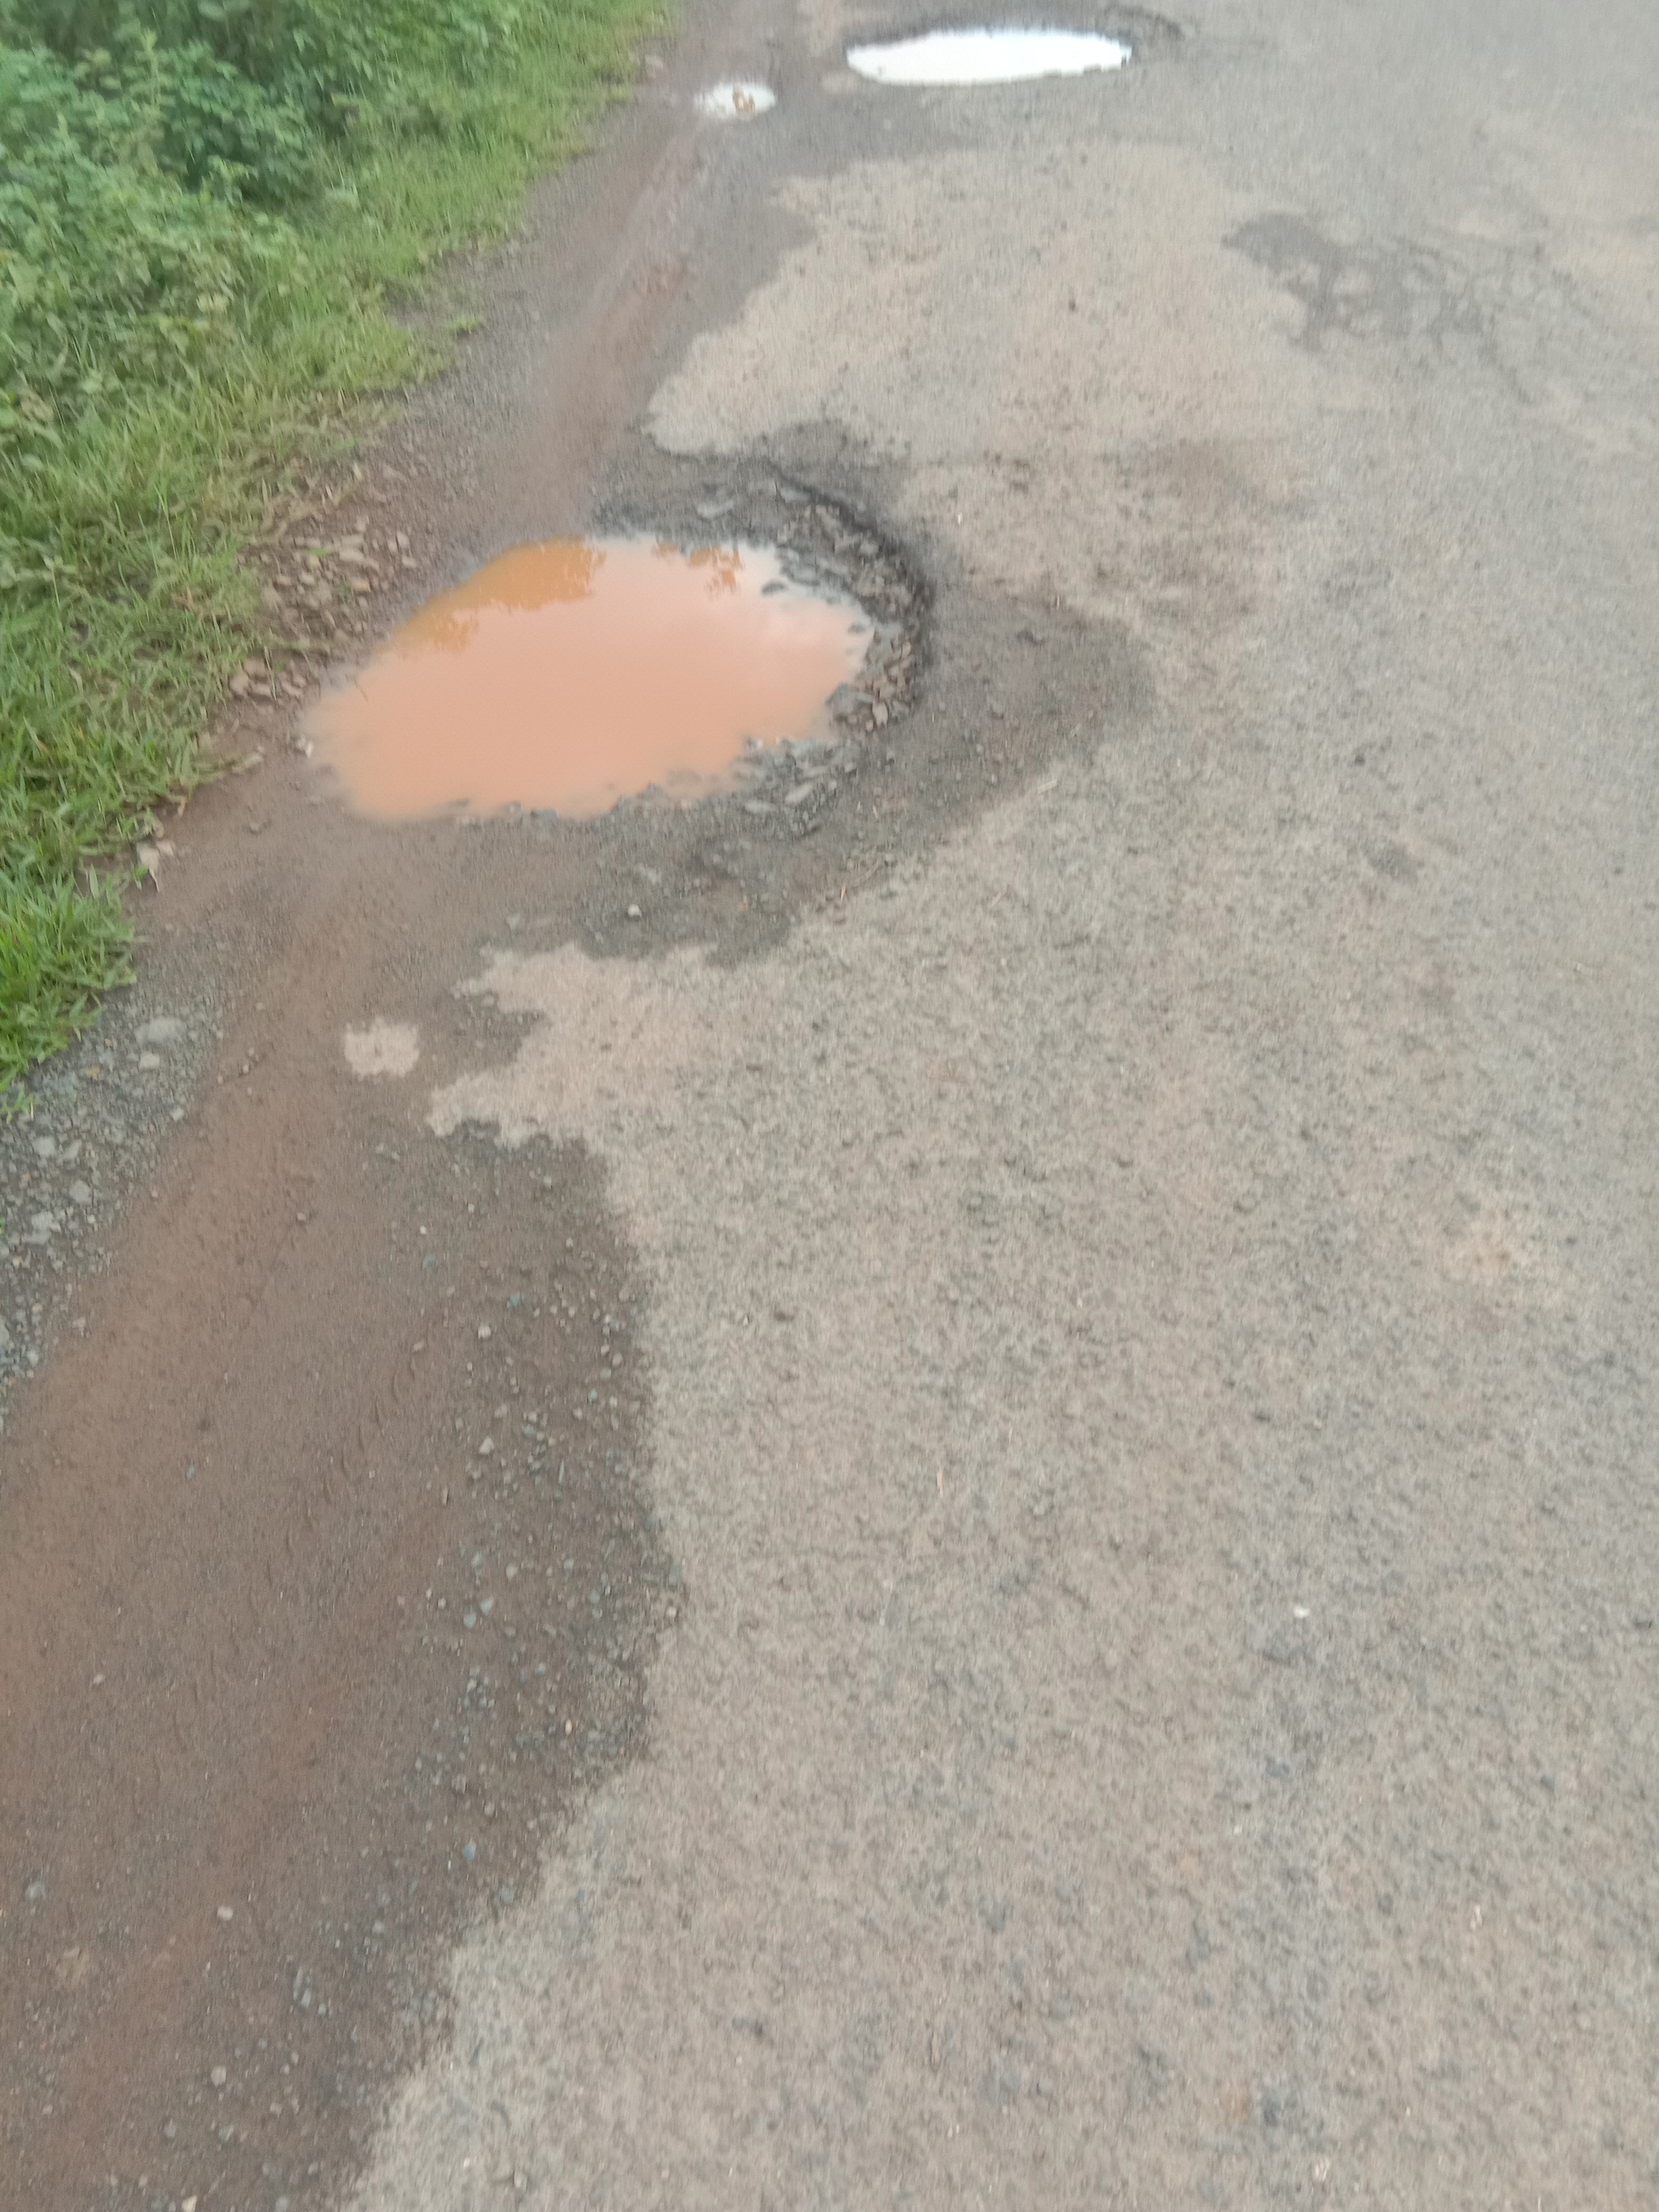potholes: (293, 465, 941, 862), (835, 7, 1229, 99), (685, 66, 784, 134)
